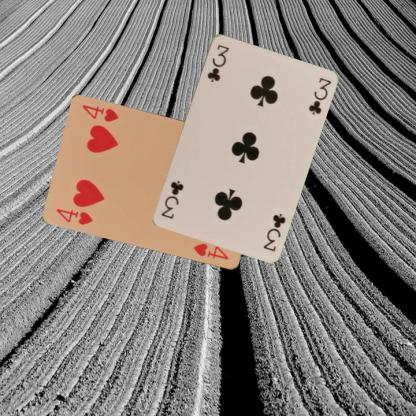3c: (261, 210, 287, 252), (204, 42, 230, 83)
4h: (54, 206, 94, 226)
